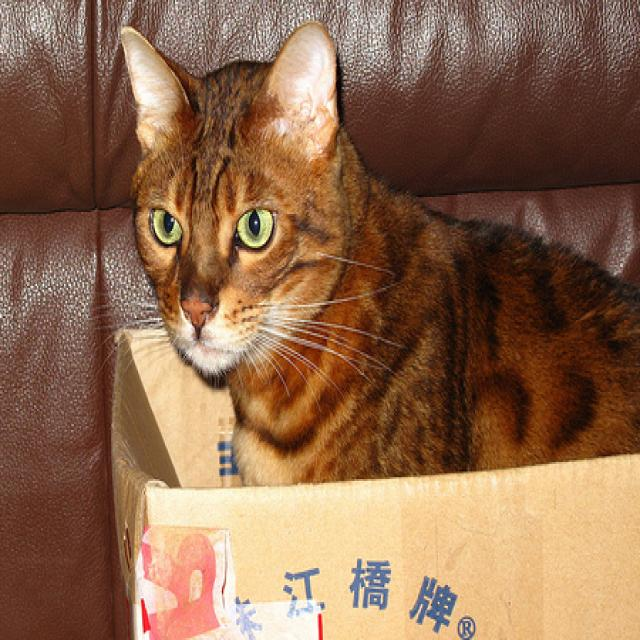Bengal: (114, 8, 640, 510)
